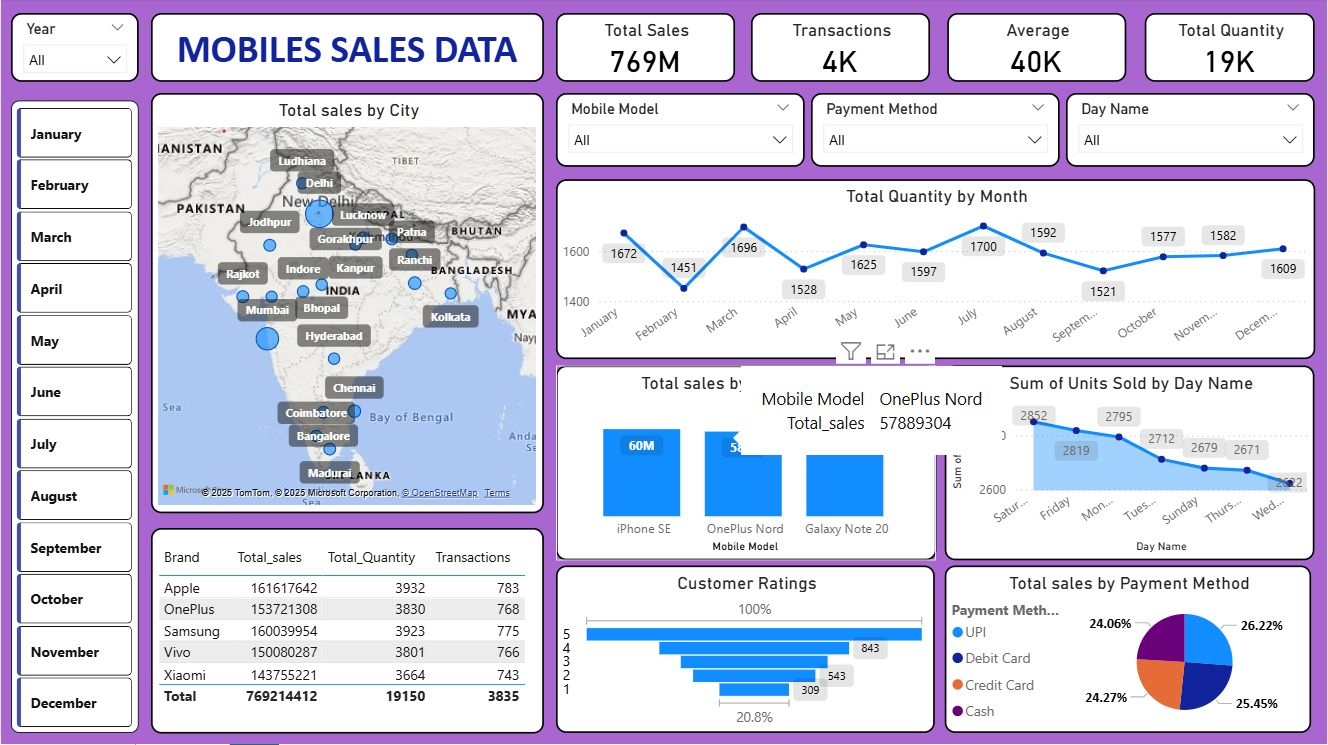

What the dashboard file says about the page in this screenshot:
{"tool":"powerbi","page":{"name":"Page 1","canvas":[1280,720],"ordinal":0},"visuals":[{"type":"advancedSlicerVisual","fields":{"Values":["Mobile sales data sheet.Date.Variation.Date Hierarchy.Month"]},"box":[9.8,99,123.5,610.2],"z":0},{"type":"lineChart","title":"Total Quantity by Month","fields":{"Y":["Sum(Mobile sales data sheet.Units Sold)"],"Category":["Mobile sales data sheet.Date.Variation.Date Hierarchy.Month","Mobile sales data sheet.Date.Variation.Date Hierarchy.Day"]},"box":[535.6,174.9,732.5,173.6],"z":1000},{"type":"areaChart","fields":{"Category":["Sheet1.Day Name"],"Y":["Sum(Mobile sales data sheet.Units Sold)"]},"box":[911,354.6,357.1,188.3],"z":2000},{"type":"columnChart","title":"Total sales by Mobile Model","fields":{"Category":["Sheet1.Mobile Model"],"Y":["Mobile sales data sheet.Total_sales"]},"box":[535.6,354.6,366.8,188.3],"z":3000},{"type":"pieChart","title":"Total sales by Payment Method","fields":{"Category":["Sheet1.Payment Method"],"Y":["Sheet1.Total_sales"]},"box":[911,547.8,353.4,161.4],"z":4000},{"type":"map","title":"Total sales by City","fields":{"Category":["Mobile sales data sheet.City"],"Size":["Mobile sales data sheet.Total_sales"]},"box":[144.3,91.7,379.1,406],"z":5000},{"type":"funnel","title":"Customer Ratings","fields":{"Category":["Mobile sales data sheet.Customer Ratings"],"Y":["CountNonNull(Mobile sales data sheet.Customer Ratings)"]},"box":[535.6,547.8,365.6,161.4],"z":6000},{"type":"tableEx","fields":{"Values":["Mobile sales data sheet.Brand","Mobile sales data sheet.Total_sales","Mobile sales data sheet.Total_Quantity","Mobile sales data sheet.Transactions"]},"box":[144.3,511.1,379.1,198.1],"z":7000},{"type":"slicer","fields":{"Values":["Mobile sales data sheet.Mobile Model"]},"box":[535.6,91.7,240,70.9],"z":8000},{"type":"card","title":"Total Sales","fields":{"Values":["Mobile sales data sheet.Total_sales"]},"box":[535.6,14.7,172.4,66],"z":9000},{"type":"textbox","box":[144.3,14.7,379.1,66],"z":10000},{"type":"slicer","fields":{"Values":["Mobile sales data sheet.Date.Variation.Date Hierarchy.Year"]},"box":[9.8,14.7,123.5,66],"z":11000},{"type":"card","title":"Transactions","fields":{"Values":["Mobile sales data sheet.Transactions"]},"box":[723.9,14.7,172.4,66],"z":12000},{"type":"card","title":"Average","fields":{"Values":["Mobile sales data sheet.Average"]},"box":[913.5,14.7,172.4,66],"z":13000},{"type":"card","title":"Total Quantity","fields":{"Values":["Mobile sales data sheet.Total_Quantity"]},"box":[1104.2,14.7,163.9,66],"z":14000},{"type":"slicer","fields":{"Values":["Mobile sales data sheet.Payment Method"]},"box":[781.4,91.7,240,70.9],"z":15000},{"type":"slicer","fields":{"Values":["Mobile sales data sheet.Day Name"]},"box":[1028.4,91.7,240,70.9],"z":16000}]}

Visuals, with their boxes in screenshot pixels (x1, y1, x2, y2), scaled from the page's 1280x720 canvas onto the 1328x745 screenshot:
advancedSlicerVisual - Mobile sales data sheet.Date.Variation.Date Hierarchy.Month: box=[10, 102, 138, 734]
"Total Quantity by Month" lineChart: box=[556, 181, 1316, 361]
areaChart - Sheet1.Day Name x Sum(Mobile sales data sheet.Units Sold): box=[945, 367, 1316, 562]
"Total sales by Mobile Model" columnChart: box=[556, 367, 936, 562]
"Total sales by Payment Method" pieChart: box=[945, 567, 1312, 734]
"Total sales by City" map: box=[150, 95, 543, 515]
"Customer Ratings" funnel: box=[556, 567, 935, 734]
tableEx - Mobile sales data sheet.Brand x Mobile sales data sheet.Total_sales: box=[150, 529, 543, 734]
slicer - Mobile sales data sheet.Mobile Model: box=[556, 95, 805, 168]
"Total Sales" card: box=[556, 15, 735, 84]
textbox: box=[150, 15, 543, 84]
slicer - Mobile sales data sheet.Date.Variation.Date Hierarchy.Year: box=[10, 15, 138, 84]
"Transactions" card: box=[751, 15, 930, 84]
"Average" card: box=[948, 15, 1127, 84]
"Total Quantity" card: box=[1146, 15, 1316, 84]
slicer - Mobile sales data sheet.Payment Method: box=[811, 95, 1060, 168]
slicer - Mobile sales data sheet.Day Name: box=[1067, 95, 1316, 168]
